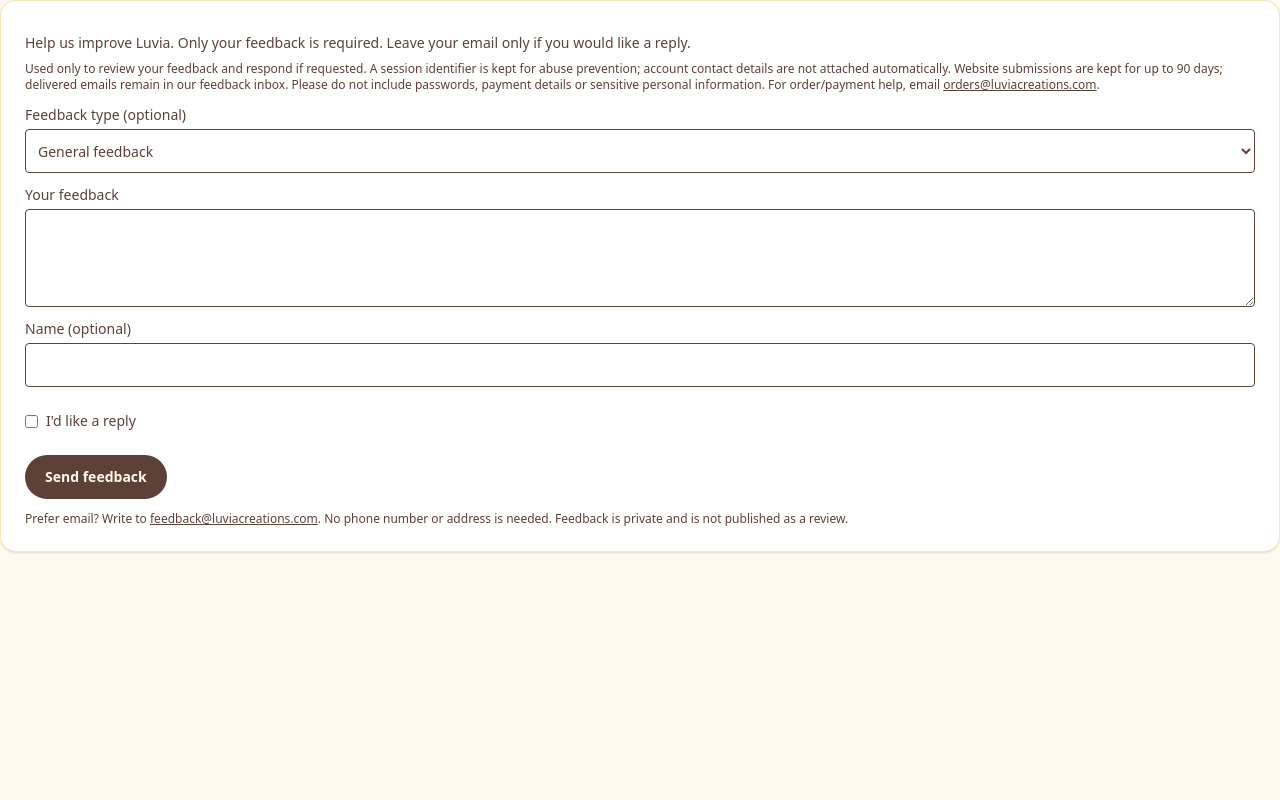
Test: collects only optional identity and requires an email for requested replies
Expected: the field labelled "Reply email" is not shown
Click the checkbox labelled "I'd like a reply": (32, 421) [25,414,38,428]
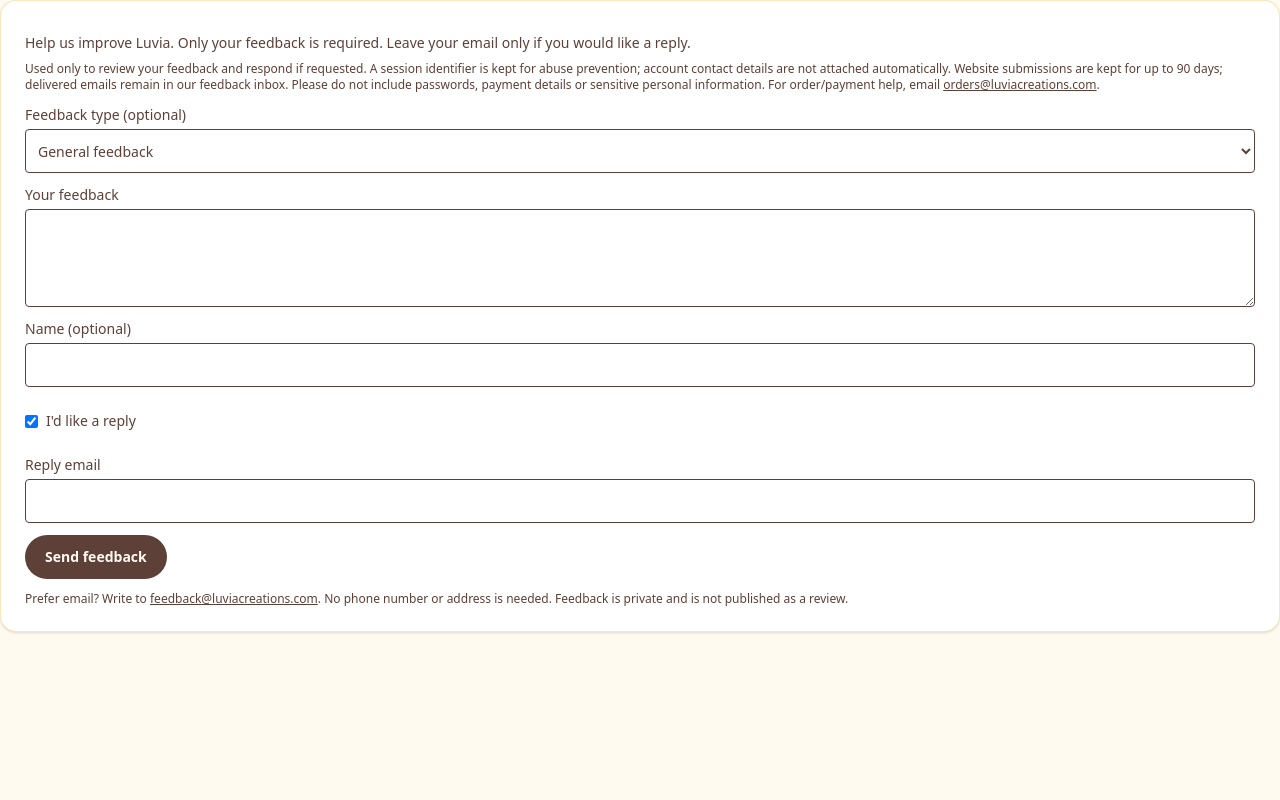
In the field labelled "Reply email": (640, 501) [25,479,1255,523], type "reply@example.test"
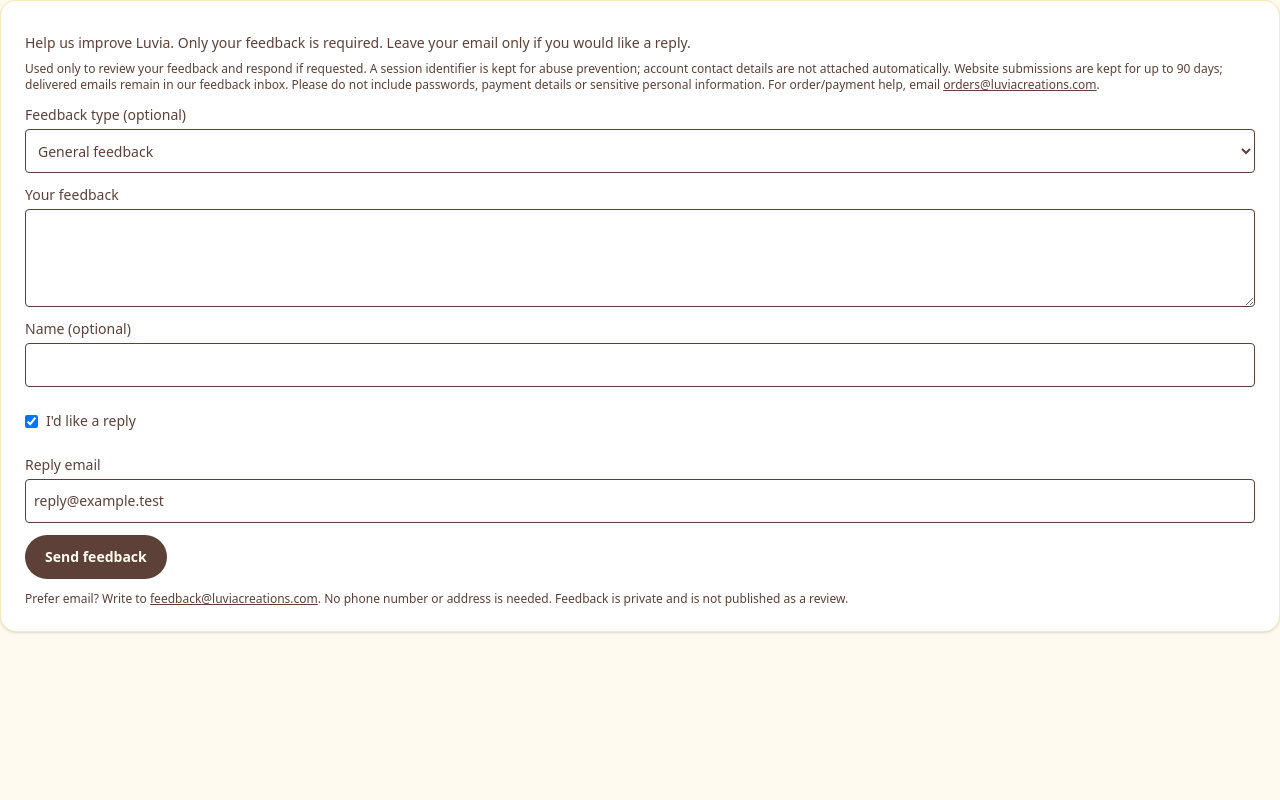
Click the checkbox labelled "I'd like a reply": (32, 421) [25,414,38,428]
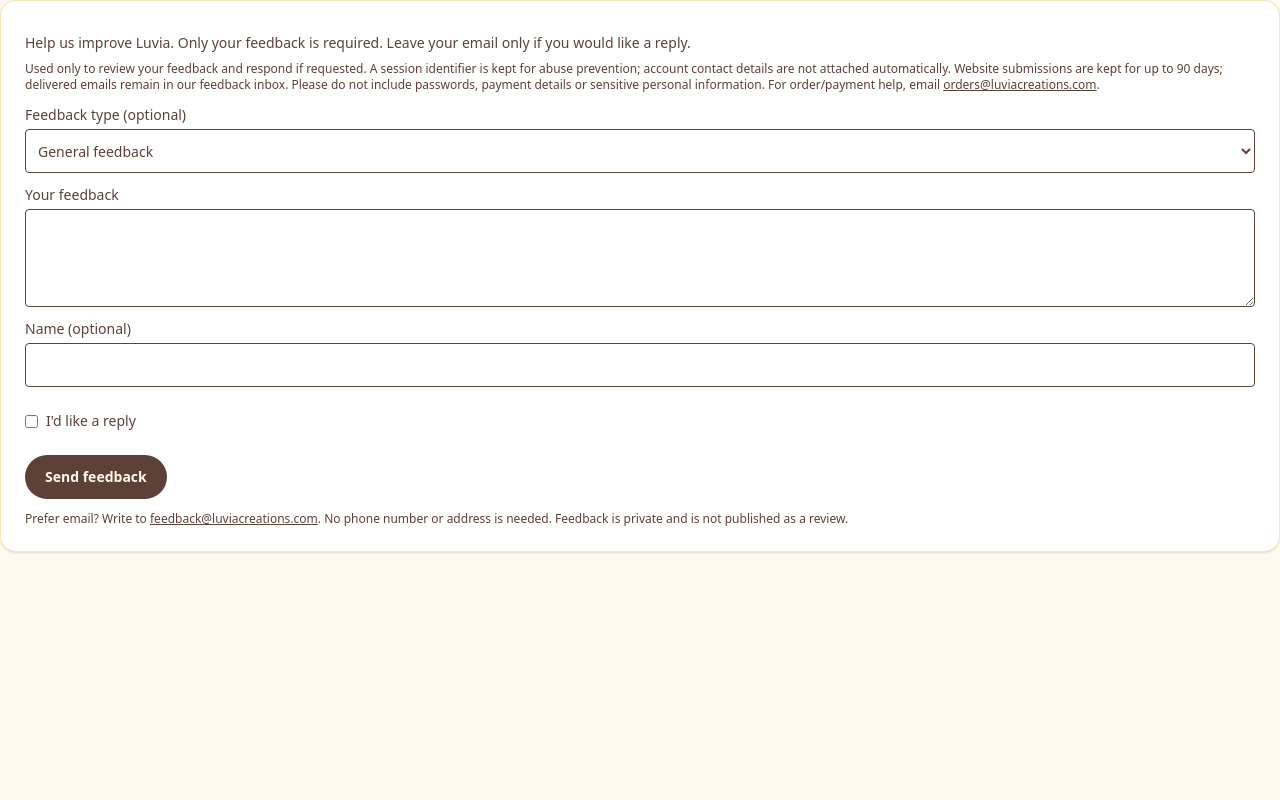
Now the label labelled "Reply email" is gone
